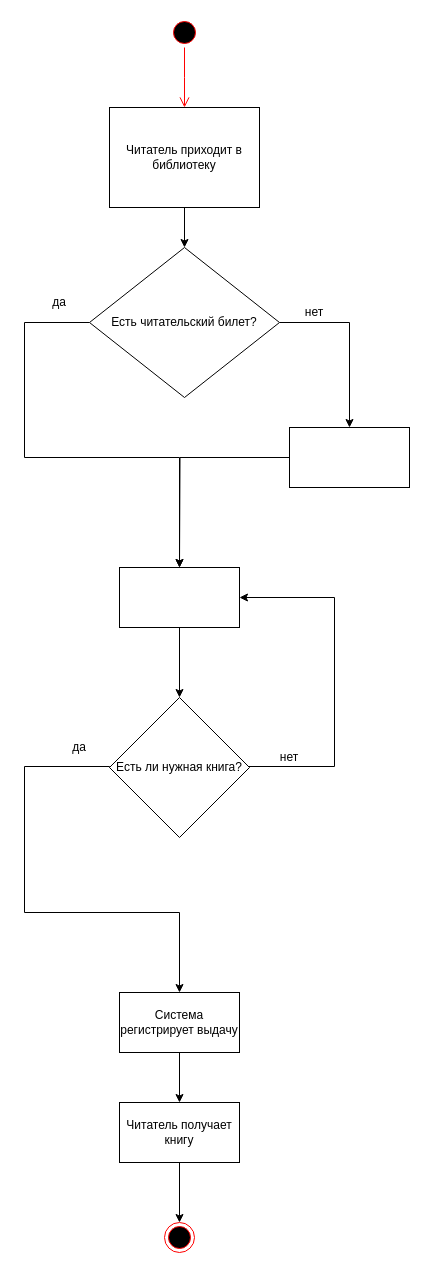
This 427x1270 diagram has some shape labels left out. The centre of each missing label's shape, as x and y in pixels:
Оформляем читательский билет: the point at 349,457
Читатель выбирает книгу: the point at 179,597
